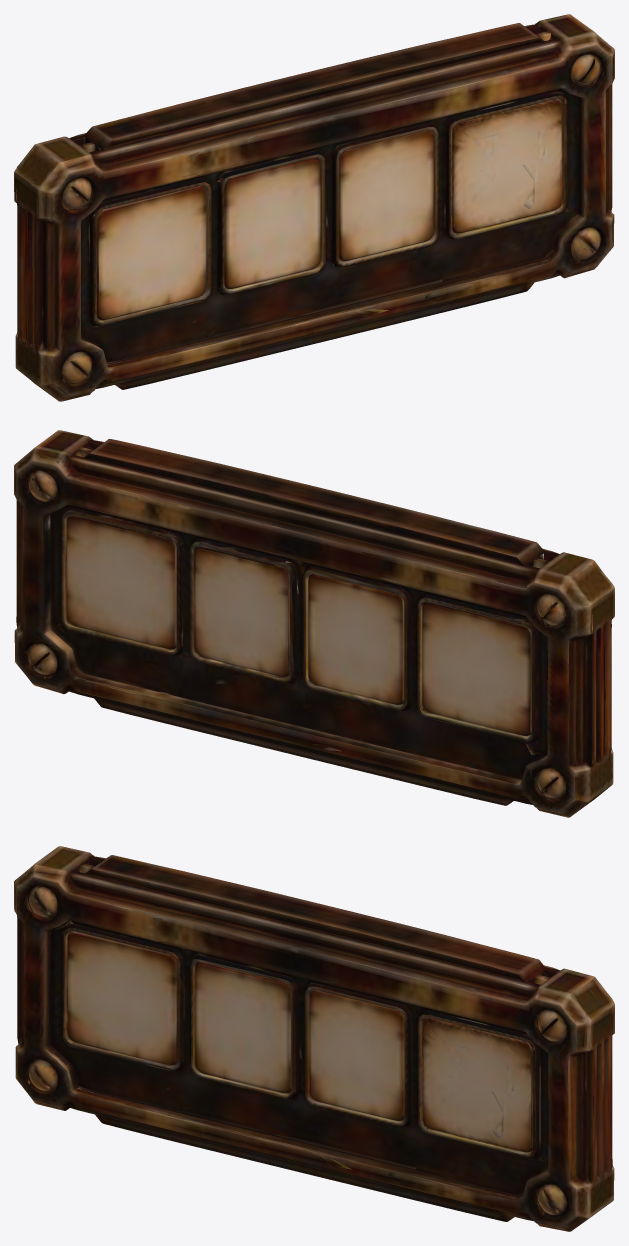
File: animal_panel.glb
3 views of the same model, one above another, from view 1: azimuth 30°, elevation 25°; view 2: azimuth 150°, elevation 25°; view 3: azimuth 330°, elevation 25° (orthographic).
Parts seen in each view (by area): view 1: Mesh_0; view 2: Mesh_0; view 3: Mesh_0.
Part boxes in pixels (bbox=[...]): Mesh_0: bbox=[14, 14, 614, 401]; Mesh_0: bbox=[14, 430, 614, 817]; Mesh_0: bbox=[14, 846, 614, 1231].
Bounding box in the file's own units: 1.14 × 0.4806 × 0.1413.
Materials: 1 (1 with a texture image).
